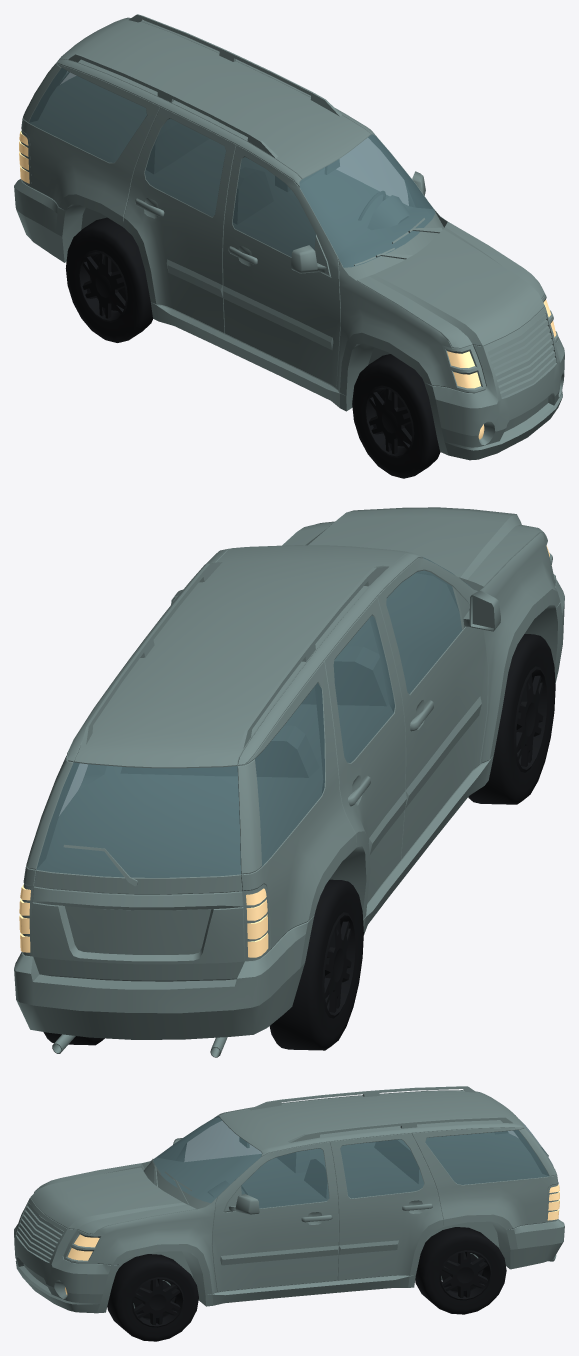
The model's file is suv.glb.
The picture shows the model from 3 angles, top to bottom: view 1: azimuth 30°, elevation 25°; view 2: azimuth 150°, elevation 25°; view 3: azimuth 270°, elevation 25°; orthographic projection. The views are drawn at different scales.
Visible parts, largest first — view 1: SUV_Body, Wheel_E003, Wheel_E002; view 2: SUV_Body, Wheel_E003, Wheel_E002; view 3: SUV_Body, Wheel_E001, Wheel_E.
Boxes of the visible parts, x1=… form: SUV_Body: x1=14, y1=14, x2=564, y2=460; Wheel_E003: x1=65, y1=217, x2=152, y2=342; Wheel_E002: x1=352, y1=354, x2=440, y2=478; SUV_Body: x1=14, y1=507, x2=564, y2=1057; Wheel_E003: x1=269, y1=879, x2=363, y2=1050; Wheel_E002: x1=468, y1=634, x2=555, y2=804; SUV_Body: x1=14, y1=1086, x2=564, y2=1313; Wheel_E001: x1=415, y1=1227, x2=506, y2=1314; Wheel_E: x1=107, y1=1254, x2=198, y2=1341.
Size of the model in its own units: 1.76 by 1.67 by 4.49.
